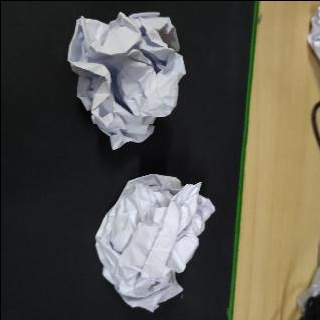8/可回收垃圾/纸: (95, 172, 215, 312), (67, 10, 186, 150)
